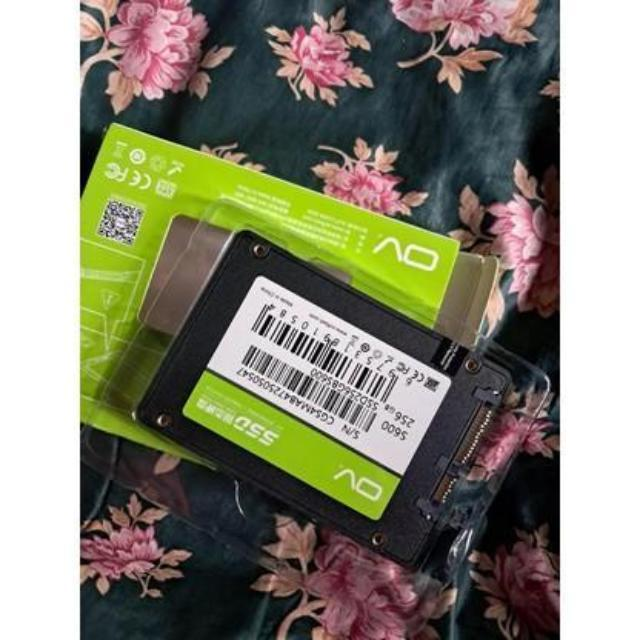DISK: (138, 228, 507, 574)
